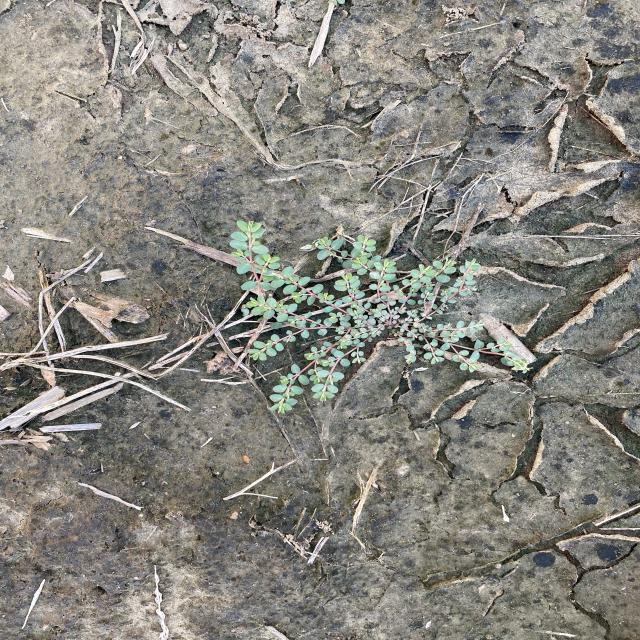SpottedSpurge: (227, 219, 534, 415)
